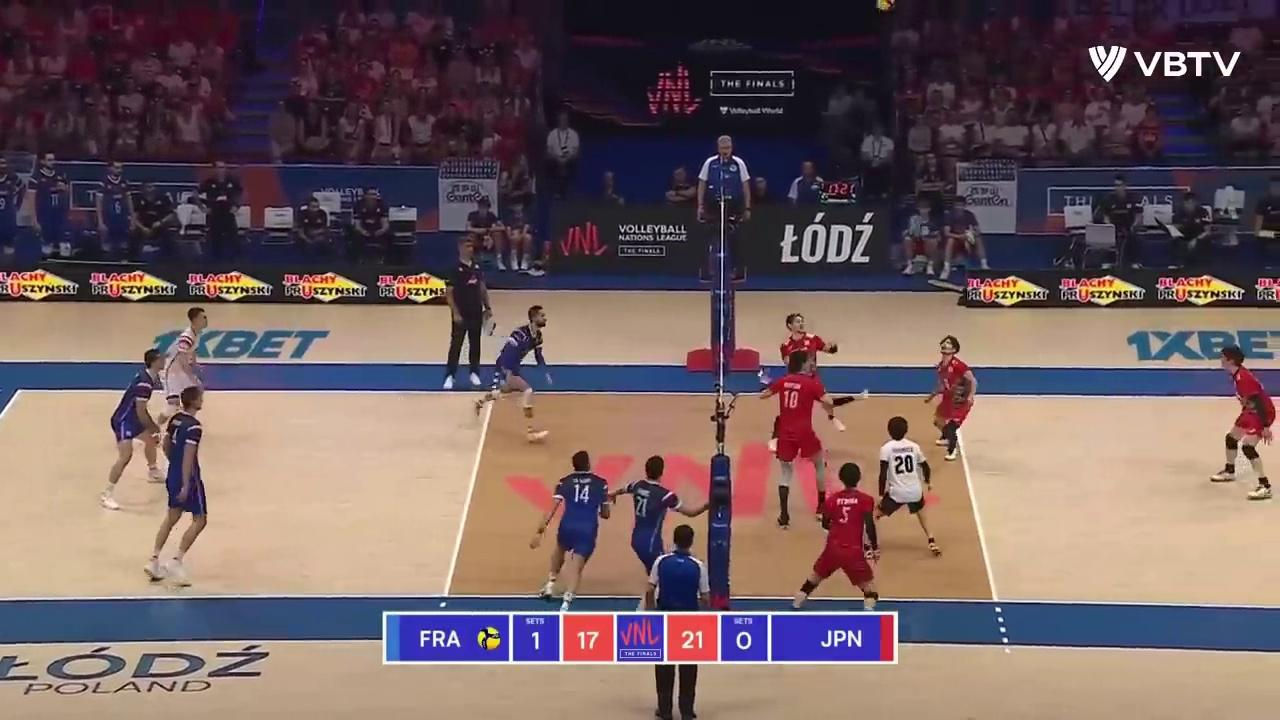ball: (873, 0, 896, 12)
